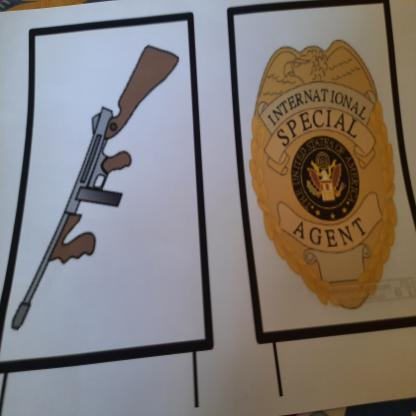Bootlegger: (11, 37, 183, 344)
G-man: (244, 31, 404, 318)
